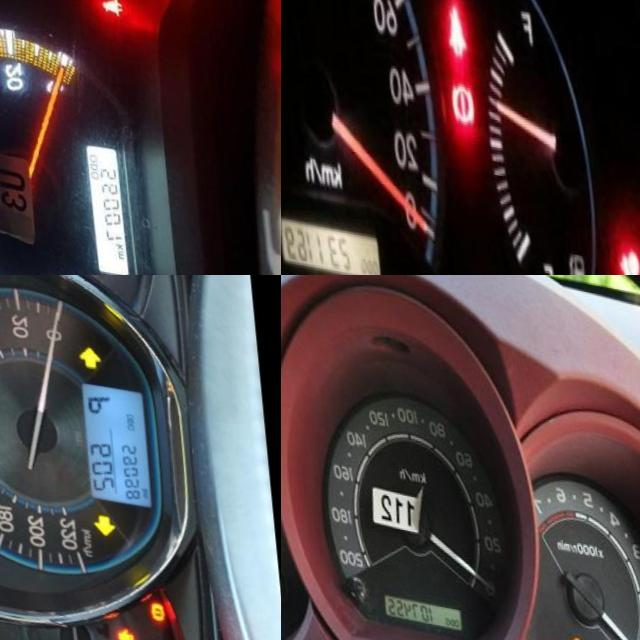Seat Belt: (441, 0, 464, 48), (523, 628, 535, 640), (96, 0, 119, 6), (114, 635, 135, 640)
